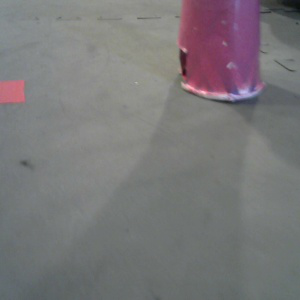right: (169, 1, 268, 106)
